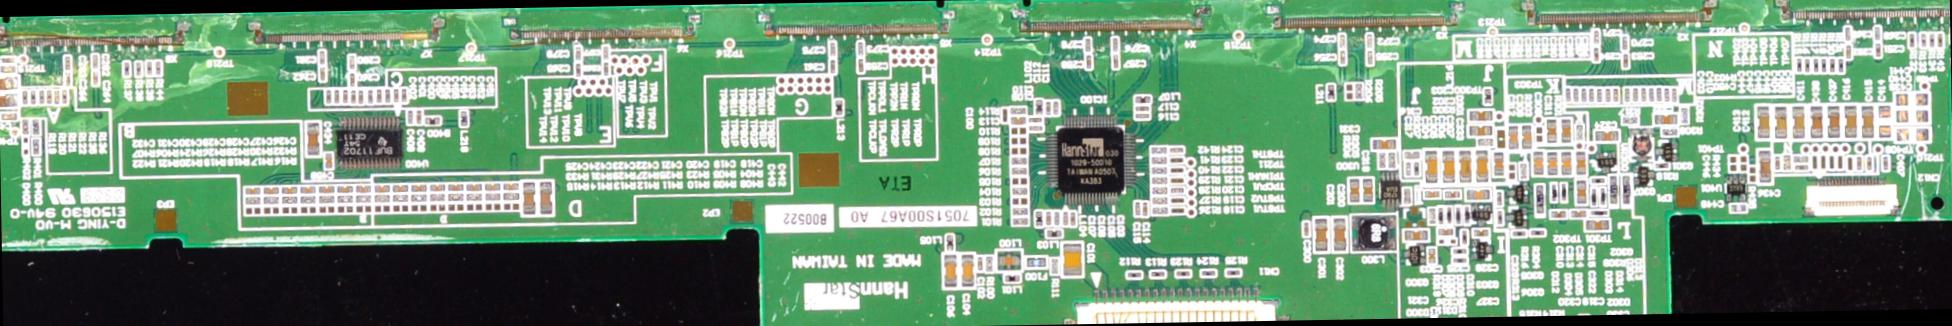Capacitor Jumper: (1062, 241, 1083, 276), (1893, 108, 1930, 124), (942, 253, 959, 286), (1754, 106, 1770, 138), (959, 253, 974, 287), (1895, 127, 1928, 142), (1895, 92, 1927, 107), (305, 123, 320, 156), (1315, 218, 1328, 250), (1423, 151, 1437, 182), (1440, 151, 1454, 182), (1333, 218, 1346, 250), (1774, 106, 1786, 137), (1793, 107, 1805, 138), (1458, 151, 1470, 182), (1758, 151, 1770, 182), (1402, 229, 1429, 243), (539, 183, 551, 213), (1826, 106, 1839, 134), (1877, 107, 1890, 136), (1861, 106, 1872, 137), (1466, 108, 1491, 122), (1810, 106, 1821, 136), (1475, 151, 1486, 180), (523, 183, 534, 213), (1845, 107, 1856, 136), (0, 93, 20, 108), (1575, 179, 1586, 204), (0, 76, 19, 91), (1371, 138, 1394, 149), (1466, 124, 1491, 134), (1362, 177, 1372, 202), (1347, 178, 1357, 203), (1508, 124, 1518, 147), (1546, 152, 1556, 174), (1652, 114, 1677, 123), (1546, 118, 1555, 142), (1593, 129, 1617, 138), (1494, 152, 1503, 175), (0, 112, 17, 123), (1561, 118, 1570, 141), (1532, 152, 1541, 174), (1466, 190, 1489, 199), (1585, 221, 1610, 229), (1521, 124, 1530, 146), (1561, 151, 1570, 172), (1727, 156, 1737, 173), (482, 182, 499, 192), (1427, 248, 1437, 265), (408, 183, 427, 192), (428, 182, 444, 192), (1729, 204, 1747, 213), (1427, 207, 1435, 224), (1576, 153, 1584, 173), (827, 42, 837, 57), (500, 180, 517, 189), (464, 183, 481, 192), (1494, 190, 1503, 207), (447, 182, 462, 190), (573, 46, 581, 61), (62, 56, 71, 71), (856, 56, 864, 73), (1010, 117, 1026, 124), (336, 184, 352, 192), (391, 184, 407, 192), (1423, 190, 1439, 198), (1550, 210, 1566, 218), (976, 255, 983, 271), (91, 71, 98, 87), (375, 183, 388, 192), (90, 55, 98, 68), (0, 65, 14, 73), (1044, 210, 1052, 225), (1061, 212, 1068, 226), (856, 41, 864, 56), (600, 46, 608, 61), (1874, 26, 1881, 41), (829, 58, 837, 73), (1134, 199, 1140, 217), (1569, 210, 1586, 217), (415, 109, 422, 123), (1, 56, 15, 63), (1110, 37, 1118, 51), (1337, 35, 1344, 49), (63, 72, 71, 86), (1874, 44, 1881, 57), (1052, 100, 1058, 116), (1437, 229, 1453, 235), (406, 109, 412, 124), (1001, 107, 1007, 122), (325, 153, 331, 168), (1781, 156, 1789, 168), (281, 185, 296, 192), (1773, 156, 1779, 170), (357, 184, 370, 192), (1836, 154, 1842, 169), (245, 188, 260, 194), (1793, 164, 1808, 170), (1444, 190, 1459, 197), (1142, 202, 1148, 217), (1302, 221, 1308, 236), (1366, 34, 1372, 49), (1592, 30, 1598, 45), (1844, 27, 1850, 42), (1112, 54, 1118, 68), (1603, 88, 1610, 102), (1135, 105, 1149, 111), (1819, 156, 1825, 169), (319, 185, 332, 192), (1828, 156, 1834, 169), (264, 188, 278, 194), (300, 187, 314, 193), (1865, 157, 1871, 170), (1170, 207, 1184, 213), (1069, 212, 1076, 225), (1084, 37, 1091, 51), (574, 62, 580, 76), (332, 90, 339, 102), (1571, 90, 1577, 102), (1169, 157, 1181, 163), (1846, 157, 1852, 169), (1170, 187, 1183, 193), (1170, 197, 1183, 203), (1338, 51, 1344, 63), (1366, 51, 1372, 63), (1044, 101, 1049, 116), (1884, 156, 1889, 170), (1053, 210, 1058, 225), (1086, 54, 1091, 68), (1845, 45, 1850, 60), (1623, 87, 1628, 101), (1657, 88, 1662, 102), (1135, 112, 1149, 117), (1028, 117, 1042, 122), (1169, 148, 1183, 153), (1404, 152, 1418, 157), (1169, 168, 1183, 173), (1404, 162, 1409, 175), (1855, 156, 1860, 169), (349, 56, 354, 70), (1622, 36, 1627, 50), (1622, 54, 1627, 67), (367, 90, 372, 102), (342, 90, 347, 102), (1588, 90, 1593, 102), (1170, 178, 1183, 183), (603, 62, 608, 75), (320, 68, 325, 81), (349, 73, 354, 86), (375, 90, 380, 101), (325, 91, 330, 102), (359, 91, 364, 102), (1672, 88, 1677, 100), (1030, 124, 1041, 129), (1811, 156, 1815, 170), (319, 50, 322, 65), (1592, 49, 1597, 60), (392, 87, 396, 101), (401, 88, 405, 102), (1664, 90, 1668, 103), (1581, 90, 1586, 100), (1596, 90, 1601, 100), (1647, 88, 1652, 98), (1641, 90, 1646, 100), (351, 90, 355, 102), (385, 90, 388, 102), (1565, 87, 1569, 100), (1633, 88, 1637, 101), (1613, 88, 1617, 100)
Connector: (1074, 287, 1275, 324), (1803, 184, 1897, 220)
IC: (1047, 116, 1135, 204), (336, 117, 403, 168), (1379, 173, 1398, 209), (1725, 175, 1747, 199)
Resistor Jumper: (30, 117, 40, 136), (279, 204, 298, 214), (244, 195, 261, 205), (335, 194, 352, 204), (316, 195, 335, 204), (300, 204, 316, 214), (317, 204, 334, 214), (31, 138, 40, 156), (355, 194, 372, 203), (391, 204, 408, 213), (1376, 152, 1384, 168), (1791, 153, 1808, 162), (410, 193, 426, 202), (263, 197, 279, 205), (1012, 207, 1028, 215), (1803, 56, 1810, 75), (373, 204, 387, 214), (1354, 82, 1362, 100), (1010, 107, 1025, 116), (1010, 158, 1027, 165), (1387, 153, 1396, 168), (300, 194, 315, 203), (429, 193, 444, 202), (466, 193, 481, 202), (355, 204, 370, 213), (243, 207, 260, 214), (336, 205, 354, 213), (503, 202, 518, 210), (1012, 217, 1027, 225), (134, 60, 142, 77), (144, 60, 152, 77), (20, 118, 27, 134), (1681, 107, 1688, 123), (1011, 127, 1027, 134), (1575, 124, 1582, 141), (280, 197, 296, 204), (429, 204, 446, 212), (1452, 248, 1468, 255), (122, 60, 129, 76), (1010, 138, 1025, 146), (1661, 127, 1676, 134), (1011, 147, 1026, 154), (486, 192, 500, 199), (1012, 187, 1027, 194), (411, 203, 426, 210), (1513, 229, 1527, 236), (1820, 56, 1826, 73), (1837, 57, 1844, 75), (1937, 31, 1943, 49), (1011, 167, 1025, 174), (486, 203, 499, 210), (264, 208, 278, 215), (1012, 198, 1026, 205), (154, 61, 162, 75), (1908, 32, 1916, 46), (1346, 82, 1352, 98), (1152, 177, 1168, 183), (447, 194, 463, 200), (986, 256, 992, 272), (1051, 258, 1057, 274), (1813, 58, 1819, 73), (1622, 117, 1637, 123), (1535, 127, 1541, 142), (1150, 147, 1165, 153), (1150, 158, 1165, 164), (1519, 163, 1525, 178), (392, 195, 407, 202), (466, 203, 481, 209), (1154, 207, 1166, 214), (1529, 230, 1544, 236), (1460, 230, 1466, 245), (1452, 256, 1466, 263), (1125, 270, 1140, 276), (1149, 271, 1164, 277), (1920, 32, 1926, 47), (1496, 209, 1501, 226), (20, 91, 26, 105), (36, 91, 42, 105), (29, 91, 35, 105), (1152, 167, 1165, 173), (375, 194, 388, 200), (1749, 168, 1755, 182), (502, 193, 515, 199), (1591, 177, 1605, 183), (1152, 188, 1165, 194), (449, 203, 463, 209), (1153, 198, 1166, 204), (1796, 56, 1801, 72), (1930, 31, 1935, 47), (1829, 57, 1834, 72), (1508, 163, 1513, 178), (61, 90, 66, 103), (1413, 161, 1418, 174), (1201, 270, 1215, 275), (46, 91, 51, 103), (1013, 178, 1026, 183), (1226, 269, 1237, 274), (1740, 156, 1744, 169), (54, 90, 57, 102), (1176, 271, 1188, 275)
Transistor: (1654, 142, 1678, 163), (1593, 153, 1616, 173), (1404, 245, 1424, 266), (1471, 204, 1490, 225), (1508, 208, 1526, 226), (1508, 185, 1527, 203), (1473, 239, 1489, 260), (1635, 165, 1653, 183)
